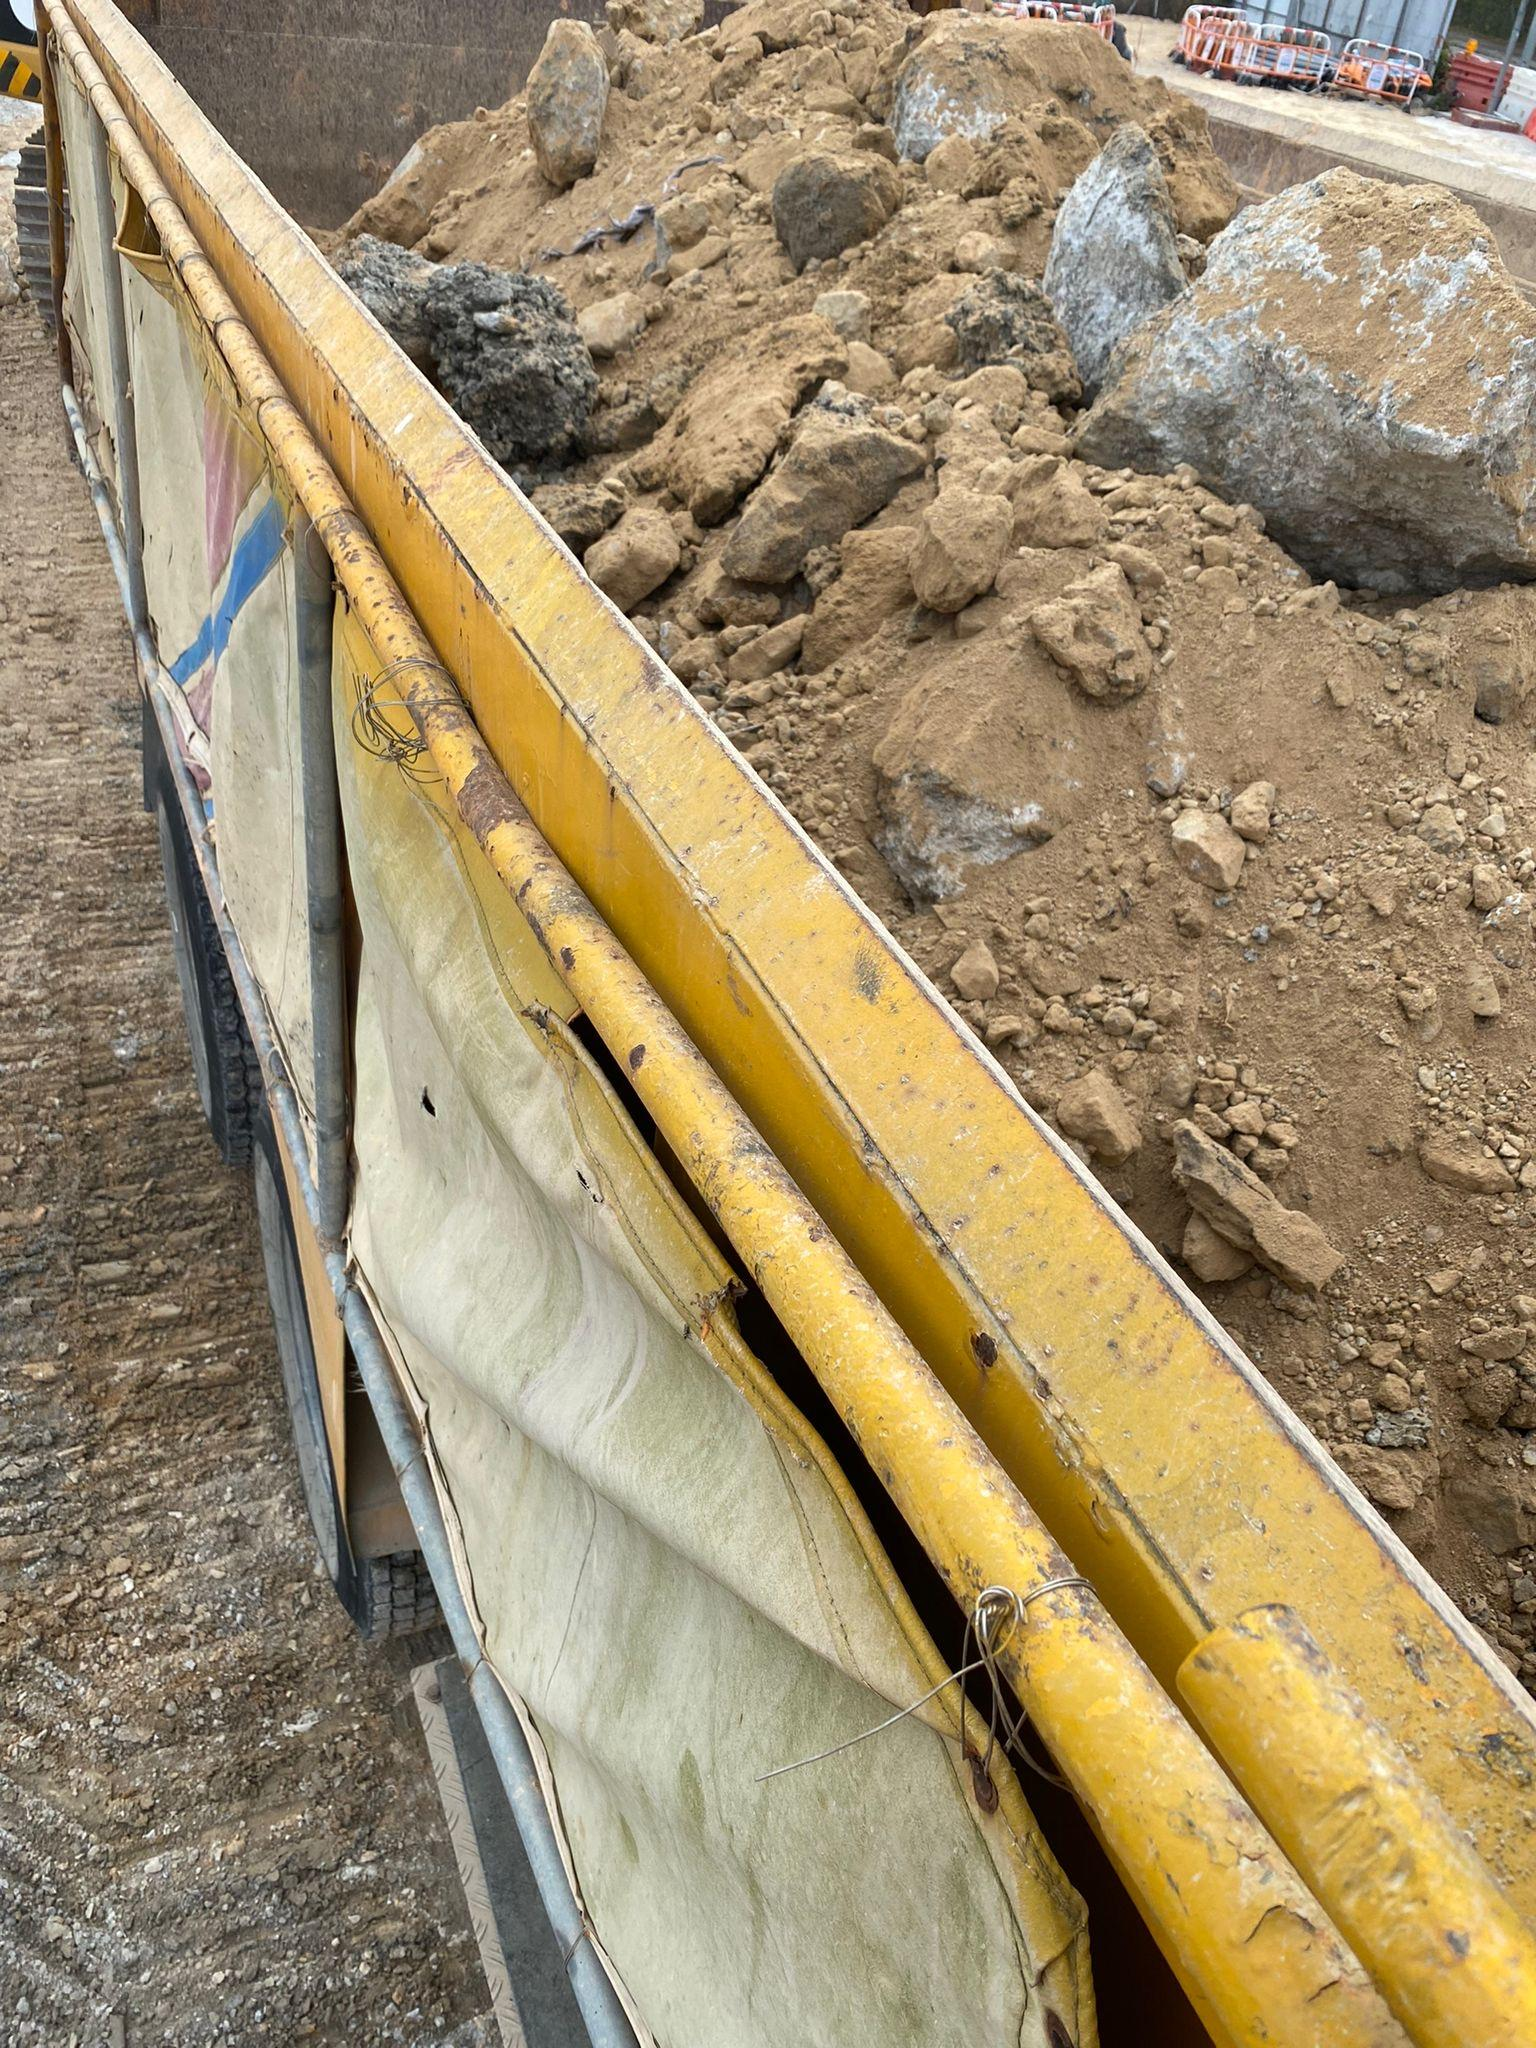stone: (1066, 160, 1534, 597), (316, 227, 600, 469), (1039, 119, 1192, 393), (720, 400, 926, 585), (1167, 1116, 1347, 1293), (1028, 560, 1155, 701), (770, 148, 904, 271), (523, 16, 608, 189), (907, 484, 1013, 613), (1170, 806, 1246, 889)
